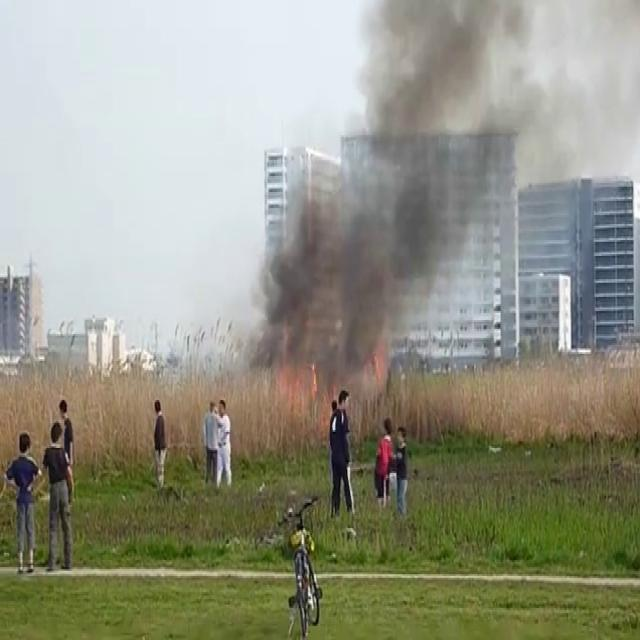Smoke: (242, 4, 635, 386)
